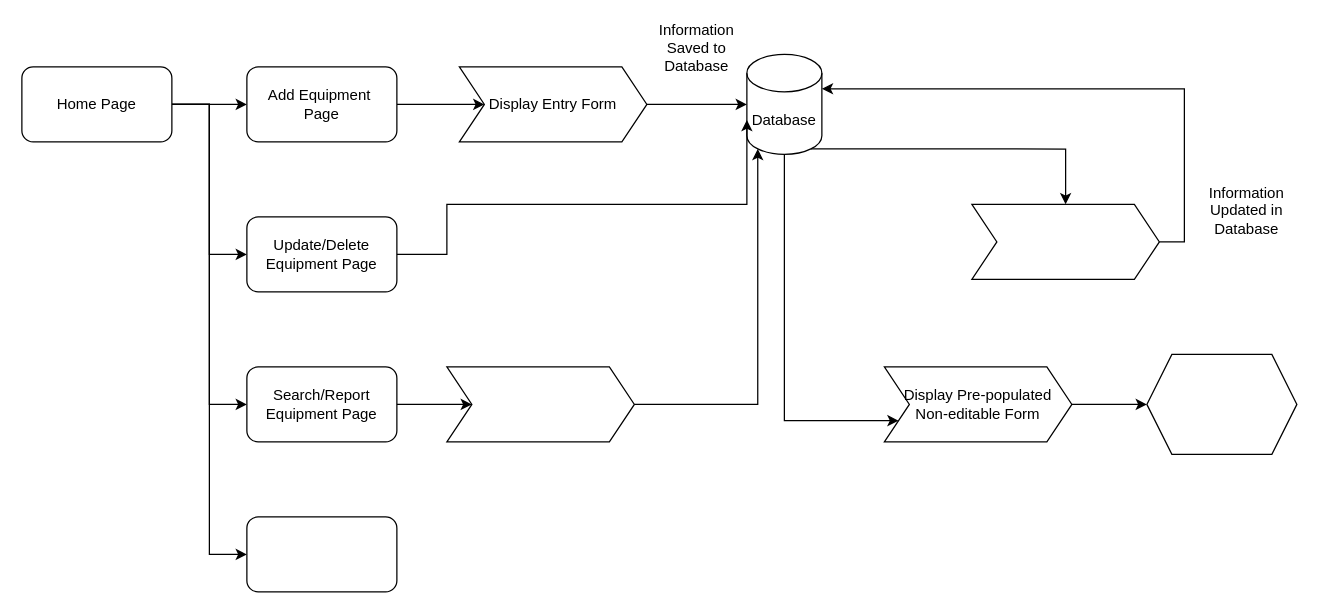
Image size: 1319x614. Some labels were removed from this diagram. Each missing label, with the centre of its shape:
About Us/Contact Us Page: (x=321, y=554)
Display Pre-populated Form: (x=1065, y=241)
Display Search Bar: (x=540, y=404)
Generate Report: (x=1221, y=403)
